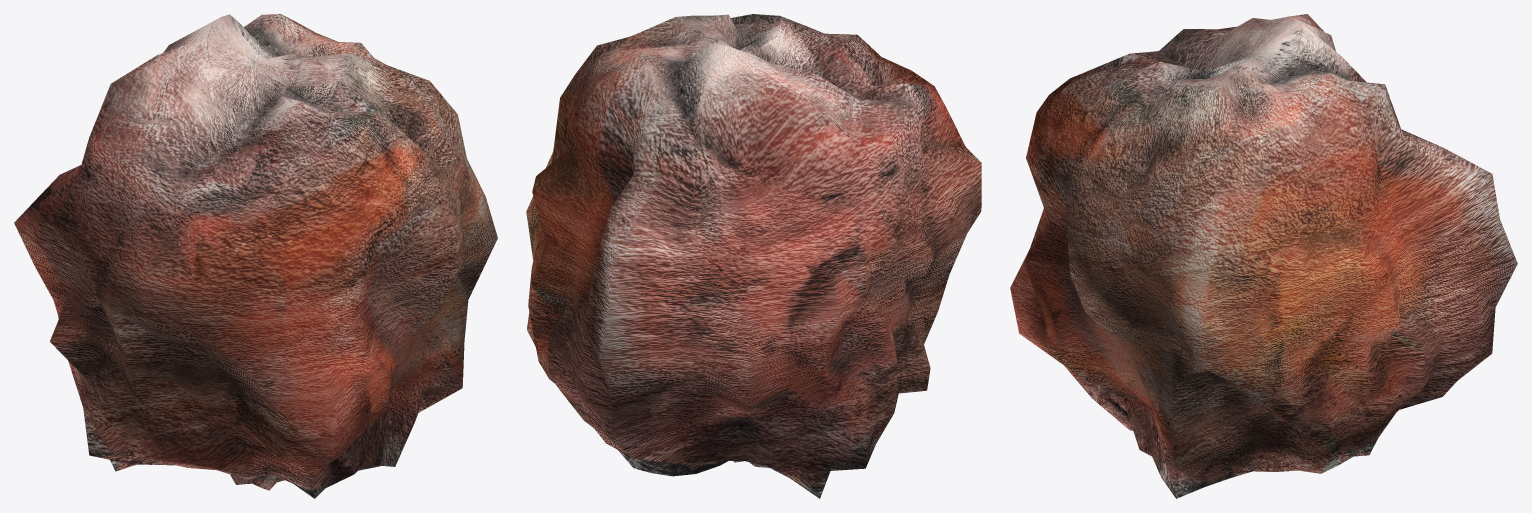
File: rock.glb
3 renders of one model, left to right at view 1: azimuth 30°, elevation 25°; view 2: azimuth 150°, elevation 25°; view 3: azimuth 270°, elevation 25°, orthographic.
Visible parts, largest first — view 1: Sphere.005; view 2: Sphere.005; view 3: Sphere.005.
Part boxes in pixels (x1=…): Sphere.005: x1=14, y1=14, x2=497, y2=498; Sphere.005: x1=526, y1=14, x2=981, y2=498; Sphere.005: x1=1010, y1=14, x2=1517, y2=498.
Size of the model in its own units: 2.09 by 2.17 by 2.3.
Materials: 1 (1 with a texture image).
